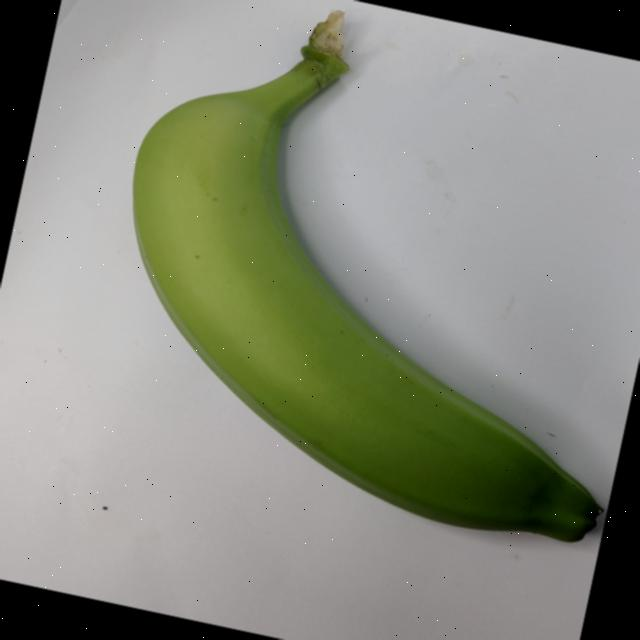Raw: (43, 0, 640, 573)
